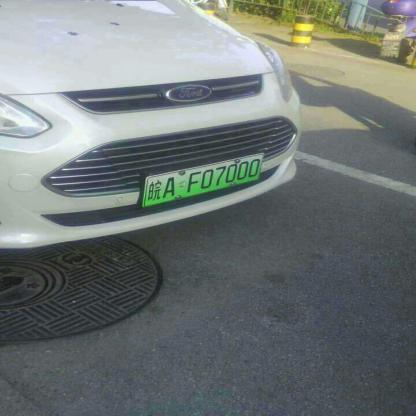lp: (142, 153, 264, 207)
